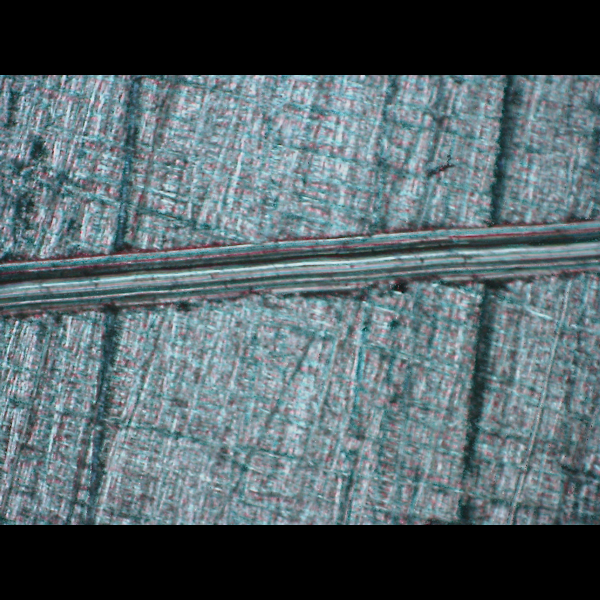d: (0, 213, 597, 333)
